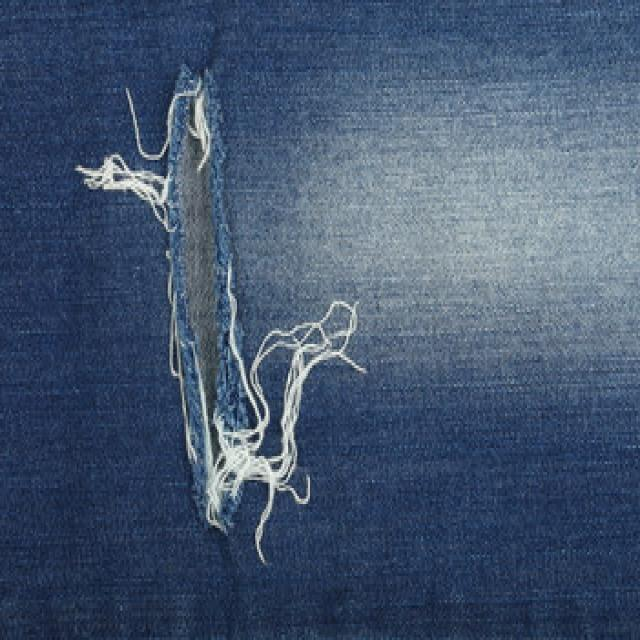hole: (156, 69, 257, 531)
